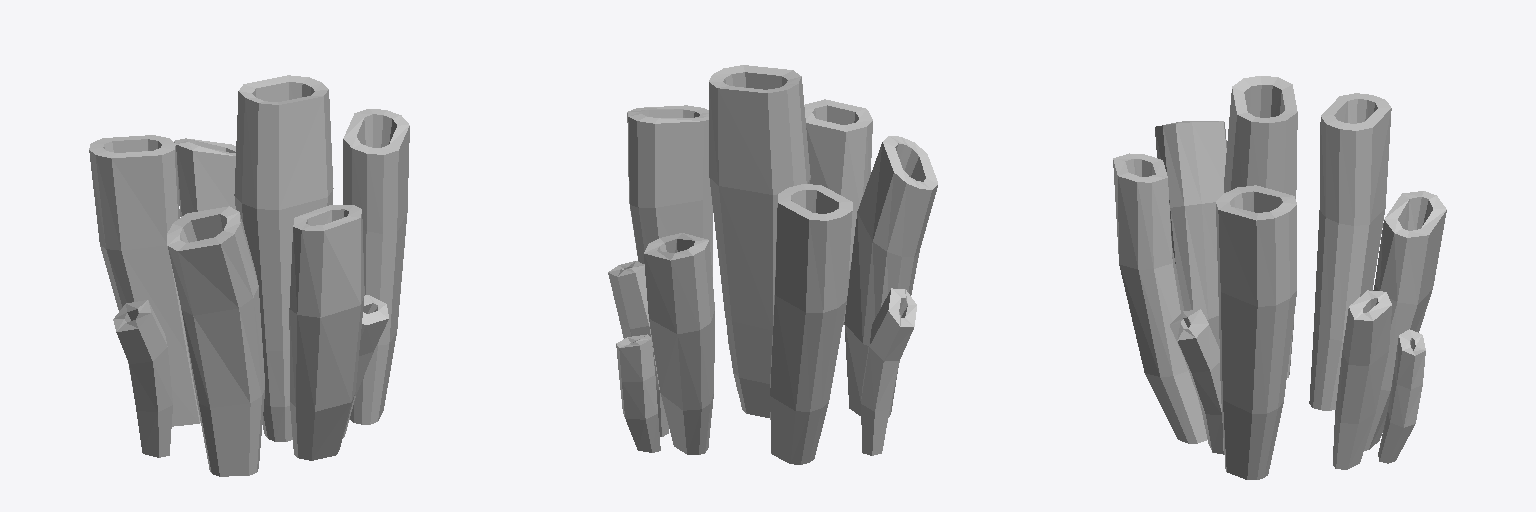
Rendered from Coral_D_03_LOD1.obj.
3 views of the same model, side by side, from view 1: azimuth 30°, elevation 25°; view 2: azimuth 150°, elevation 25°; view 3: azimuth 270°, elevation 25° (orthographic).
Visible parts, largest first — view 1: Coral_D_03_LOD1_Cylinder.401; view 2: Coral_D_03_LOD1_Cylinder.401; view 3: Coral_D_03_LOD1_Cylinder.401.
Boxes of the visible parts, x1,y1,x2,y2 form: Coral_D_03_LOD1_Cylinder.401: [89, 75, 409, 476]; Coral_D_03_LOD1_Cylinder.401: [608, 65, 937, 464]; Coral_D_03_LOD1_Cylinder.401: [1113, 76, 1446, 479].
Size of the model in its own units: 4.19 by 4.77 by 4.24.